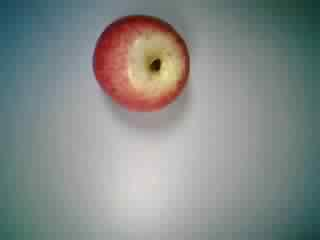apple: (86, 11, 193, 115)
